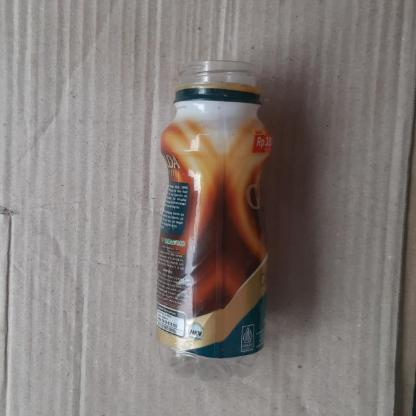Plastic Bottle: (152, 60, 274, 382)
